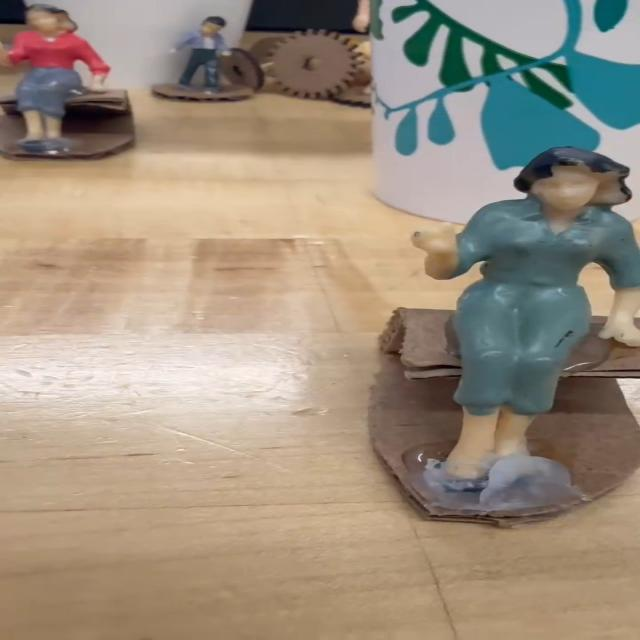Authorized: (394, 134, 640, 493)
